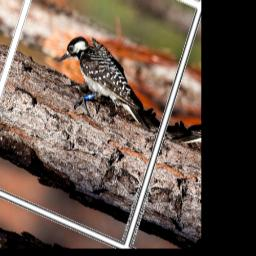Woodpecker: (40, 19, 178, 154)
